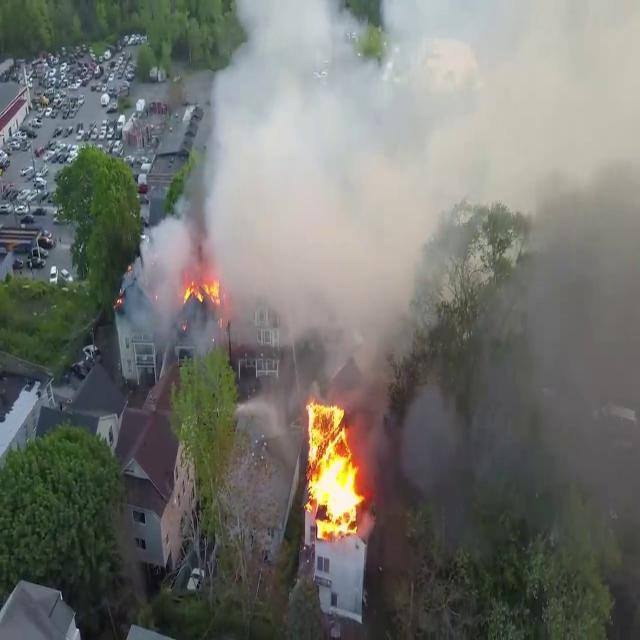Fire: (300, 395, 368, 535), (181, 269, 222, 312)
Smoke: (400, 10, 640, 639), (142, 0, 515, 378)
